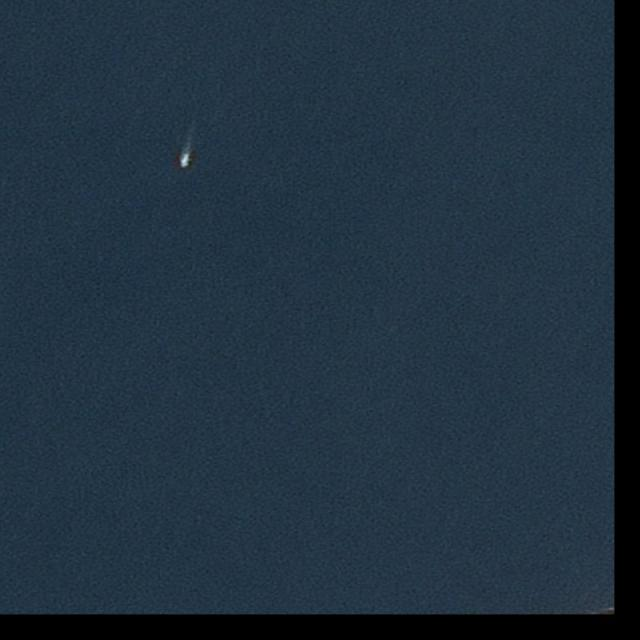ship: (181, 154, 190, 169)
